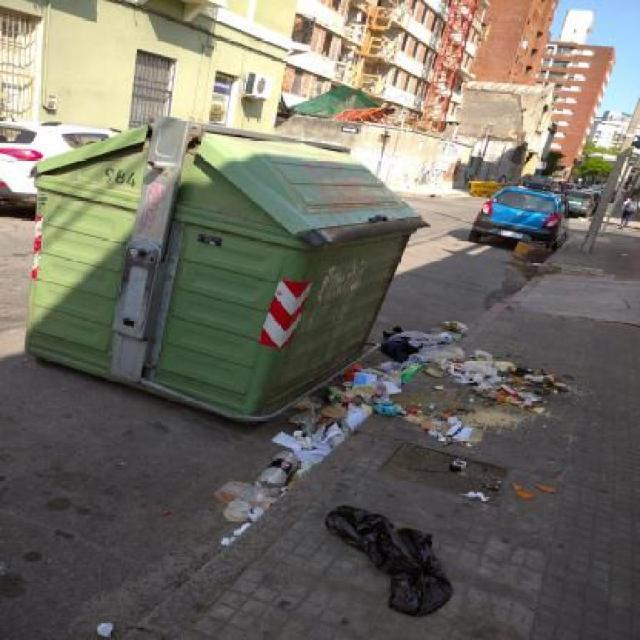garbage: (270, 391, 439, 636), (368, 312, 617, 444)
